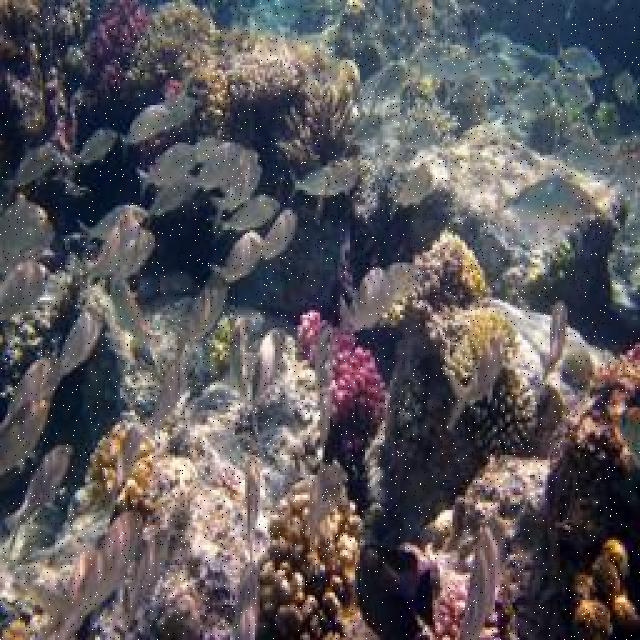fish: (21, 513, 146, 638), (2, 449, 73, 549), (446, 332, 506, 430), (344, 260, 423, 332), (236, 330, 287, 437), (493, 177, 599, 226), (81, 234, 153, 289), (174, 278, 228, 350), (119, 104, 192, 155), (284, 157, 363, 202), (138, 146, 201, 197), (80, 206, 147, 249), (388, 165, 436, 219), (539, 303, 569, 382), (67, 129, 119, 172), (242, 456, 264, 557), (214, 233, 261, 276), (556, 47, 603, 77)
reefs: (255, 479, 372, 638), (297, 312, 388, 483)
